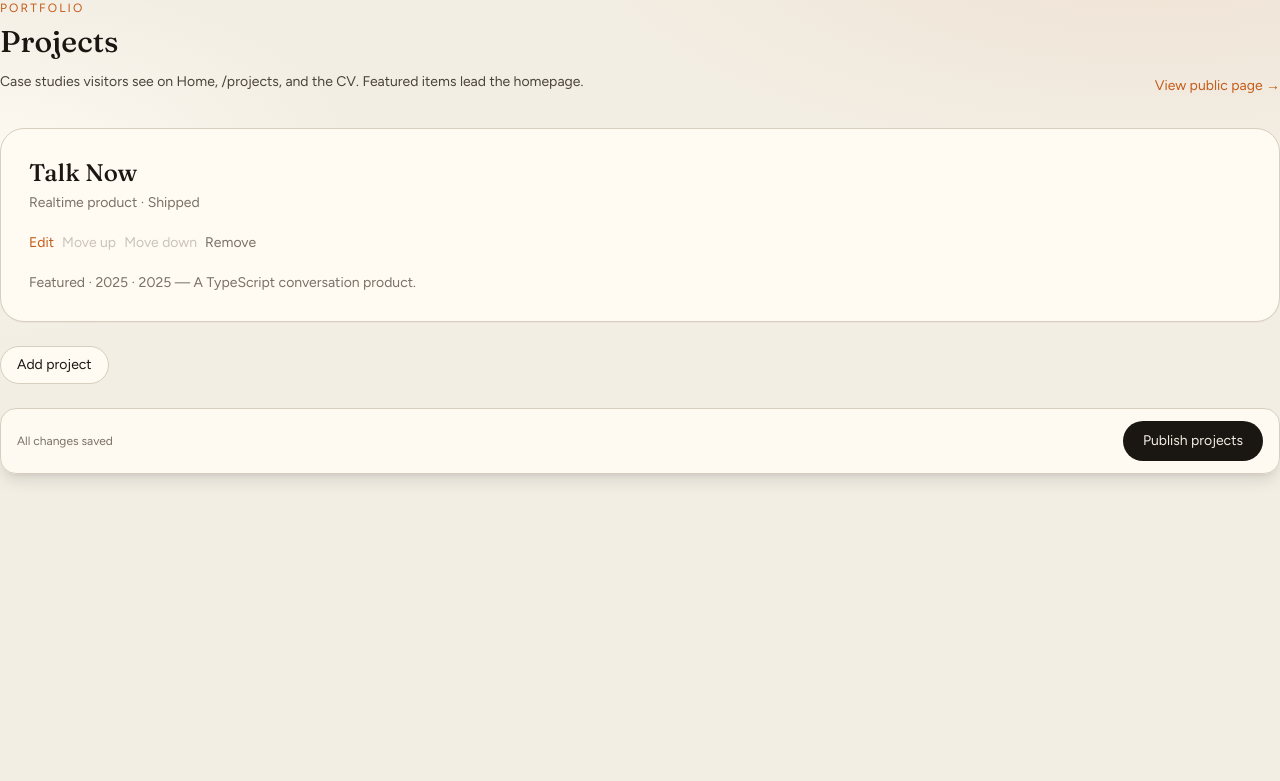
Scenario: AdminProjectsPage › loads published records and publishes edits
This screenshot has width=1280, height=781.
Expected: the heading "Projects" is shown, [0,23,118,60]
Step 1. Click the button "Edit" → x=42, y=243, box [29,233,54,253]
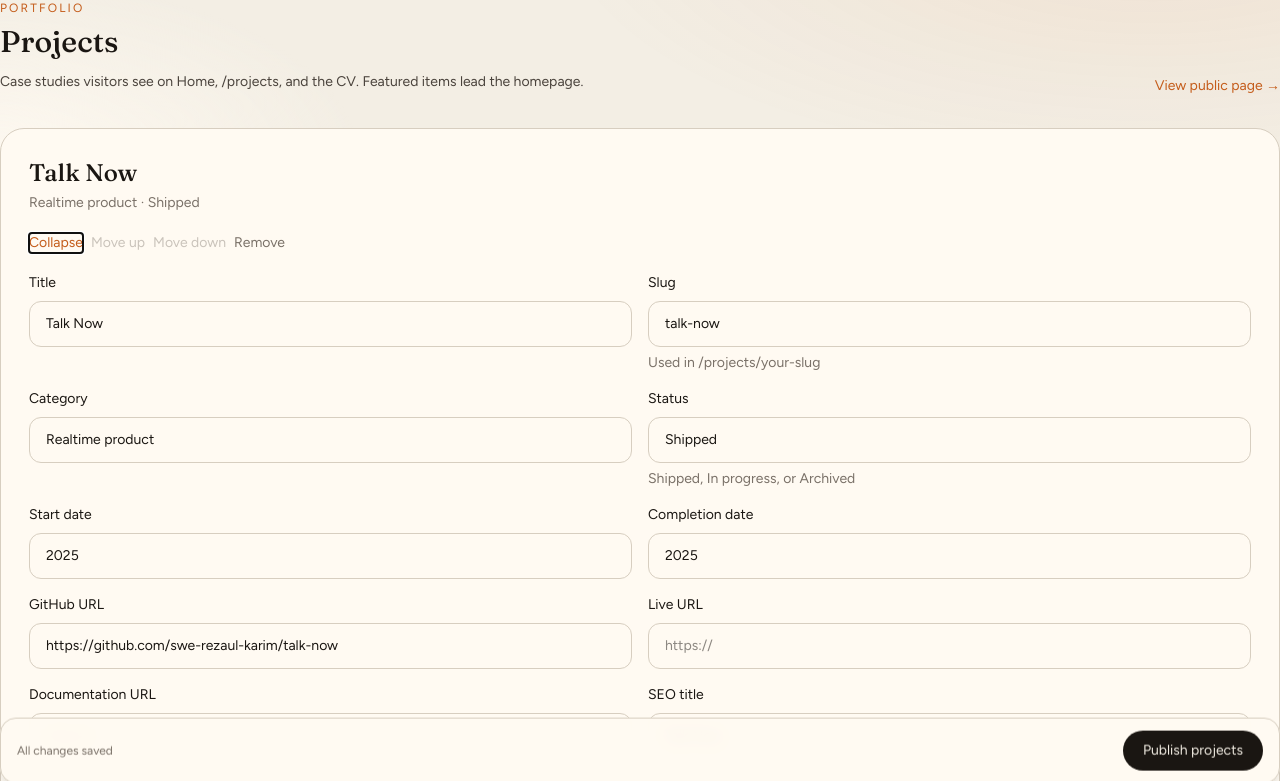
Result: the field labelled "Title" holds "Talk Now"
Result: the field labelled "Slug" holds "talk-now" at [648,301,1251,347]
Step 2. Replace the text in the field labelled "Title" with "Talk Now Live" → x=330, y=324, box [29,301,632,347]
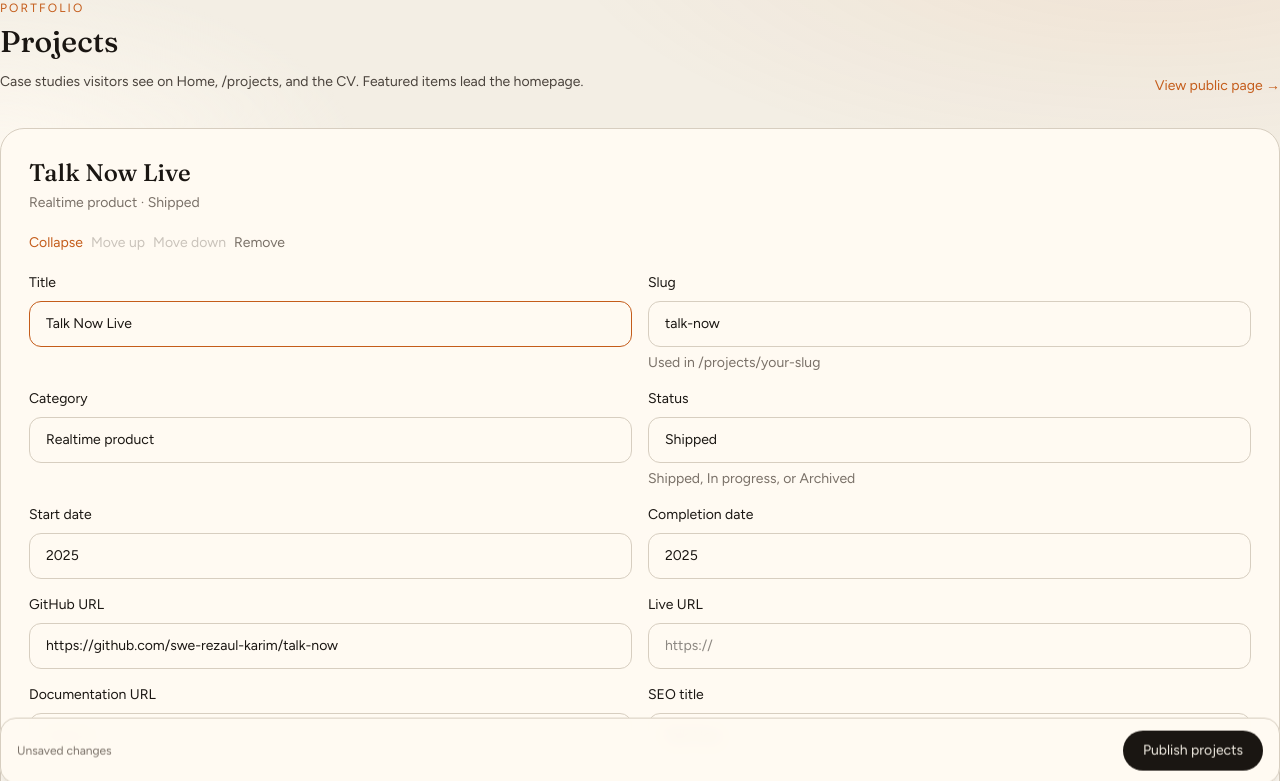
Step 3. Click the button "Publish projects" → x=1193, y=751, box [1123,731,1263,771]
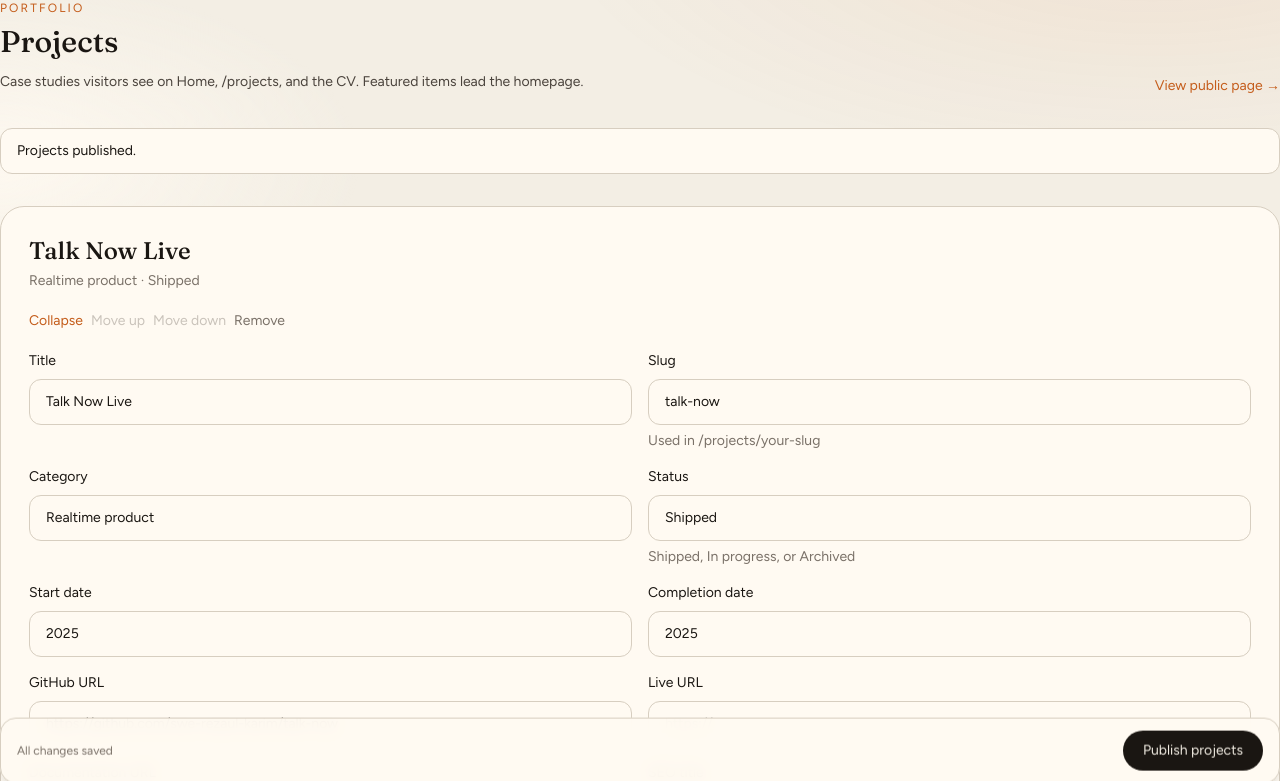
Result: the text "Projects published." is shown at [0,128,1279,174]
